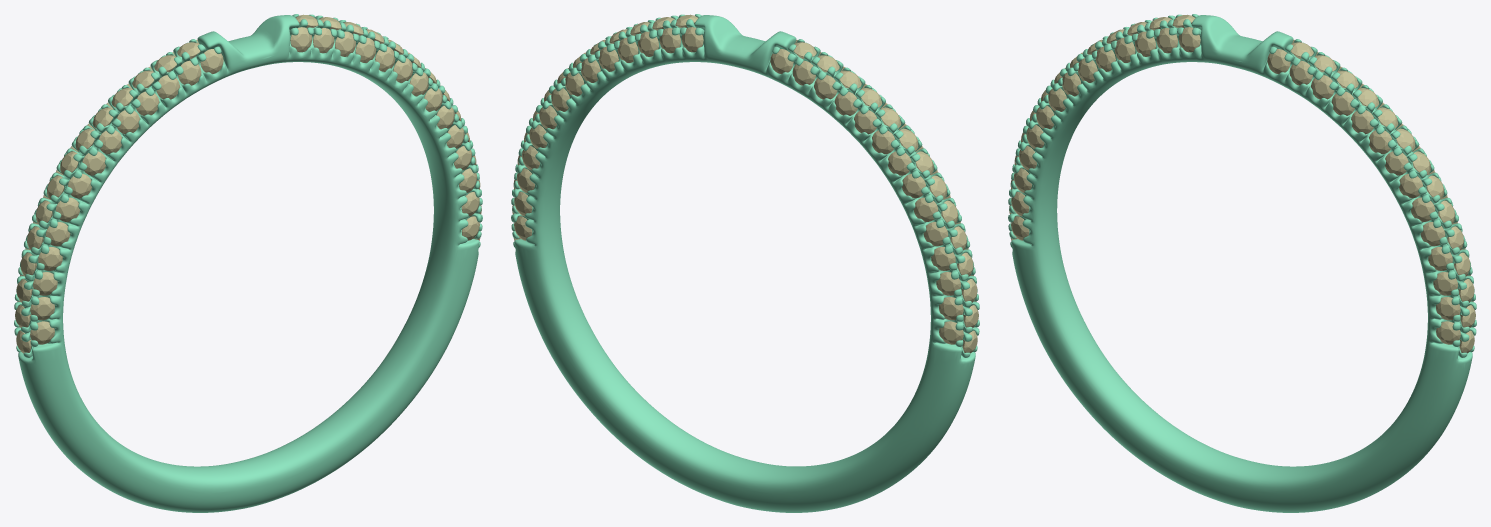
3 renders of one model, left to right at view 1: azimuth 30°, elevation 25°; view 2: azimuth 150°, elevation 25°; view 3: azimuth 330°, elevation 25°, orthographic.
Visible parts, largest first — view 1: Metal02; view 2: Metal02; view 3: Metal02.
Part boxes in pixels (x1,y1,x2,y2): Metal02: (14, 14, 482, 512); Metal02: (511, 14, 979, 512); Metal02: (1008, 14, 1476, 512).
Bounding box in the file's own units: 20.95 × 20.83 × 1.83.
